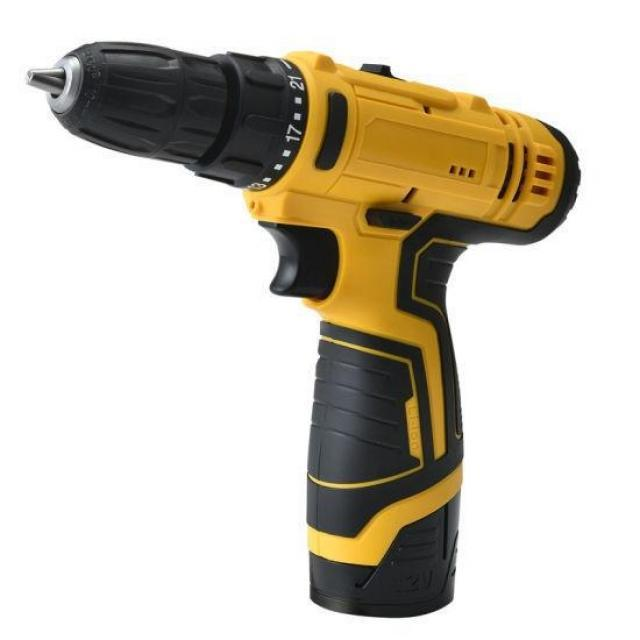drill: (24, 40, 582, 617)
